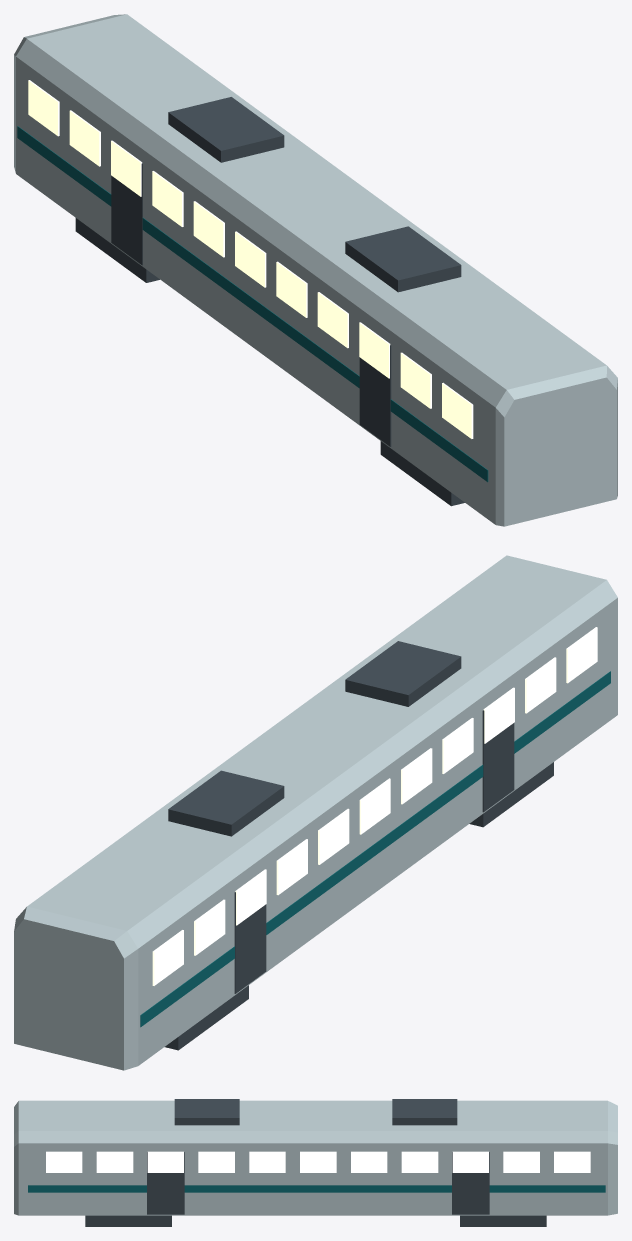
File: jr-car.glb
The picture shows the model from 3 angles, top to bottom: view 1: azimuth 30°, elevation 25°; view 2: azimuth 150°, elevation 25°; view 3: azimuth 270°, elevation 25°; orthographic projection. The views are drawn at different scales.
Bounding box in the file's own units: 2.88 × 3.67 × 19.5.
